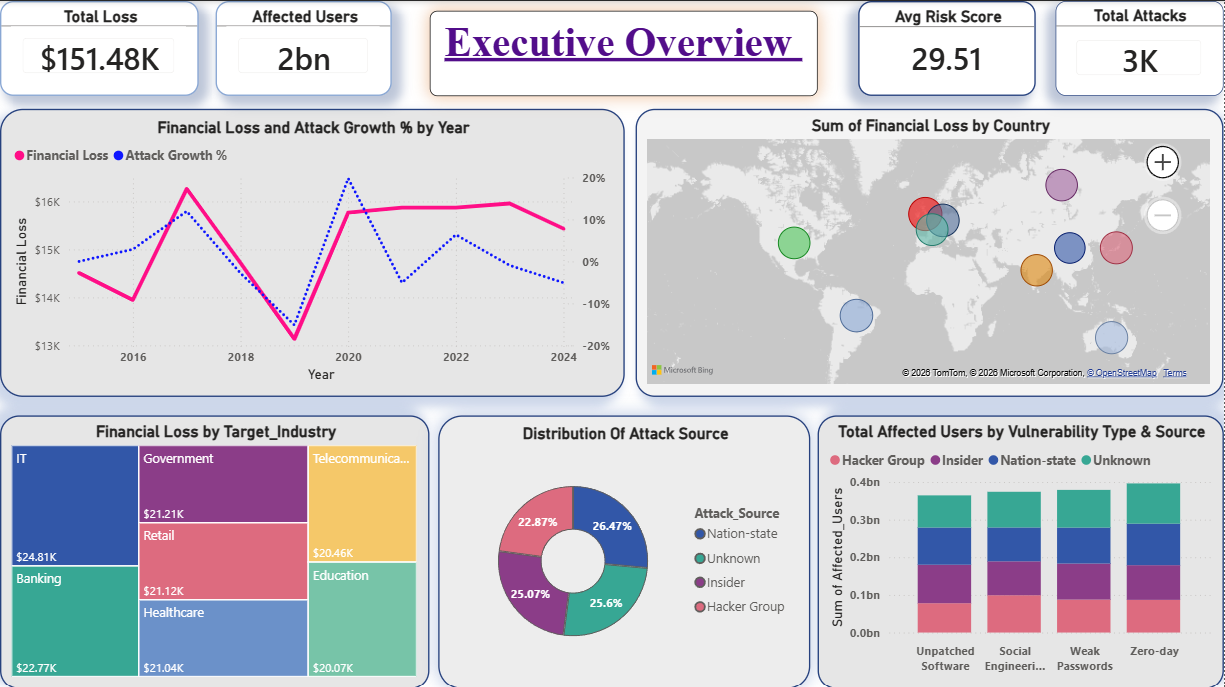

Layout of this report page (visuals, bound fields, positions):
{"tool":"powerbi","page":{"name":"Page 1","canvas":[1280,720],"ordinal":0},"visuals":[{"type":"cardVisual","title":"Total Loss","fields":{"Data":["Sum(cybersecuritydb global_cybersecurity.Financial_Loss_Million)"]},"box":[0,0,208,99.6],"z":0},{"type":"lineChart","fields":{"Category":["cybersecuritydb global_cybersecurity.Year"],"Y":["Sum(cybersecuritydb global_cybersecurity.Financial_Loss_Million)"],"Y2":["cybersecuritydb global_cybersecurity.Attack Growth %"]},"box":[0,112.8,653.2,301.7],"z":1000},{"type":"textbox","box":[449.6,10.3,405.7,89.3],"z":2000},{"type":"cardVisual","title":"Affected Users","fields":{"Data":["Sum(cybersecuritydb global_cybersecurity.Affected_Users)"]},"box":[225.6,0,184.5,99.6],"z":3000},{"type":"cardVisual","title":"Total Attacks","fields":{"Data":["cybersecuritydb global_cybersecurity.Total Attacks"]},"box":[1104.3,0,175.8,99.6],"z":4000},{"type":"cardVisual","title":"Avg Risk Score","fields":{"Data":["cybersecuritydb global_cybersecurity.Avg Cyber Risk Score"]},"box":[897.8,0,186,99.6],"z":5000},{"type":"map","title":"Sum of Financial Loss by Country","fields":{"Category":["cybersecuritydb global_cybersecurity.Country"],"Size":["Sum(cybersecuritydb global_cybersecurity.Financial_Loss_Million)"]},"box":[664.9,112.8,615.1,301.7],"z":6000},{"type":"treemap","title":"Financial Loss by Target_Industry","fields":{"Values":["Sum(cybersecuritydb global_cybersecurity.Financial_Loss_Million)"],"Group":["cybersecuritydb global_cybersecurity.Target_Industry"]},"box":[0,433.5,449.6,287.1],"z":7000},{"type":"pieChart","title":"Distribution Of Attack Source","fields":{"Category":["cybersecuritydb global_cybersecurity.Attack_Source"],"Y":["cybersecuritydb global_cybersecurity.Total Attacks"]},"box":[458.4,433.5,389.6,287.1],"z":8000},{"type":"columnChart","title":"Total Affected Users by Vulnerability Type & Source","fields":{"Y":["Sum(cybersecuritydb global_cybersecurity.Affected_Users)"],"Category":["cybersecuritydb global_cybersecurity.Vulnerability_Type"],"Series":["cybersecuritydb global_cybersecurity.Attack_Source"]},"box":[855.3,433.5,424.7,287.1],"z":9000}]}

Visuals, with their boxes in screenshot pixels (x1, y1, x2, y2), scaled from the page's 1280x720 canvas onto the 1225x687 screenshot:
"Total Loss" cardVisual: detection(0, 0, 199, 95)
lineChart - cybersecuritydb global_cybersecurity.Year x Sum(cybersecuritydb global_cybersecurity.Financial_Loss_Million): detection(0, 108, 625, 396)
textbox: detection(430, 10, 819, 95)
"Affected Users" cardVisual: detection(216, 0, 392, 95)
"Total Attacks" cardVisual: detection(1057, 0, 1224, 95)
"Avg Risk Score" cardVisual: detection(859, 0, 1037, 95)
"Sum of Financial Loss by Country" map: detection(636, 108, 1224, 396)
"Financial Loss by Target_Industry" treemap: detection(0, 414, 430, 686)
"Distribution Of Attack Source" pieChart: detection(439, 414, 812, 686)
"Total Affected Users by Vulnerability Type & Source" columnChart: detection(819, 414, 1224, 686)
